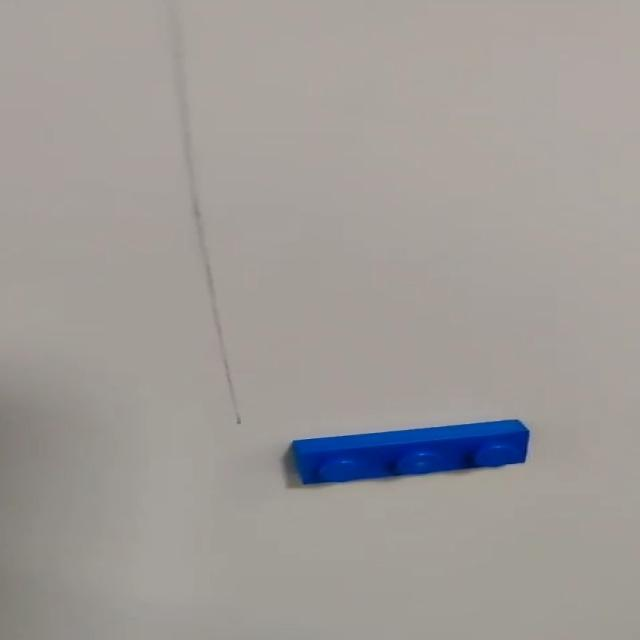C3x1x0: (290, 418, 533, 485)
